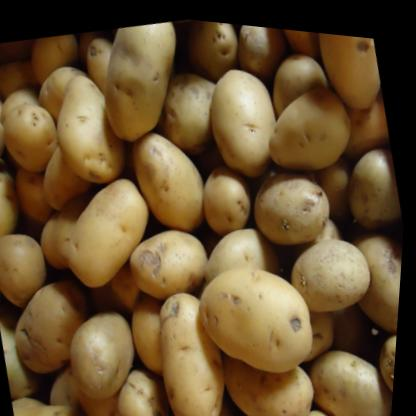potato: (182, 232, 334, 392), (83, 9, 200, 149), (55, 163, 171, 297), (145, 273, 253, 416), (189, 40, 292, 189), (37, 44, 136, 197), (115, 113, 222, 246), (253, 63, 366, 187), (57, 295, 154, 411), (241, 155, 346, 254)
